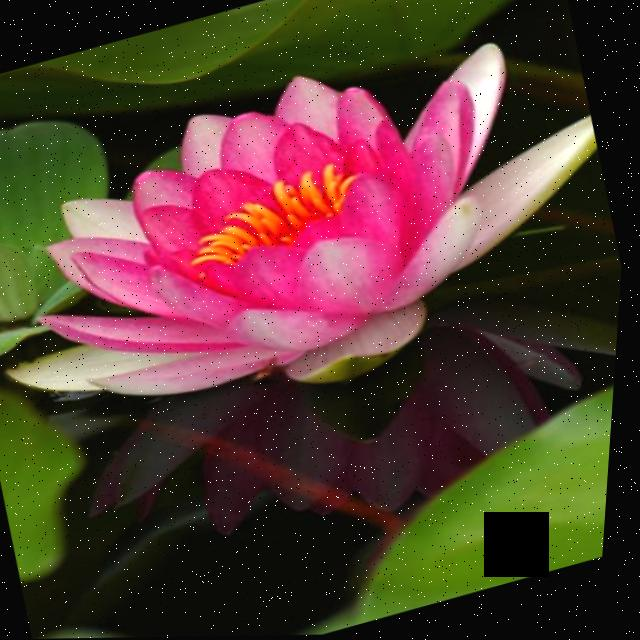water-lily: (0, 0, 640, 481)
